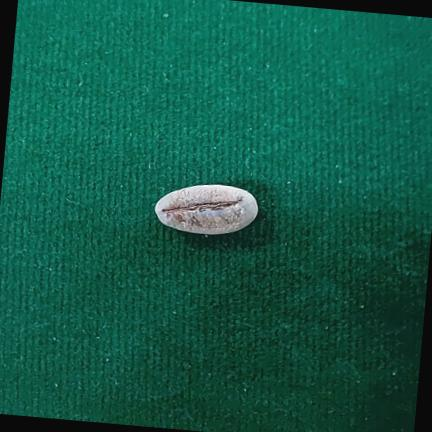husk: (155, 185, 258, 235)
